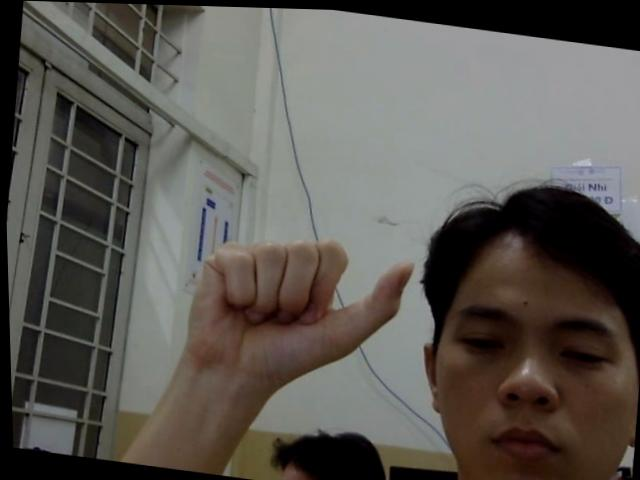A: (166, 217, 424, 389)
